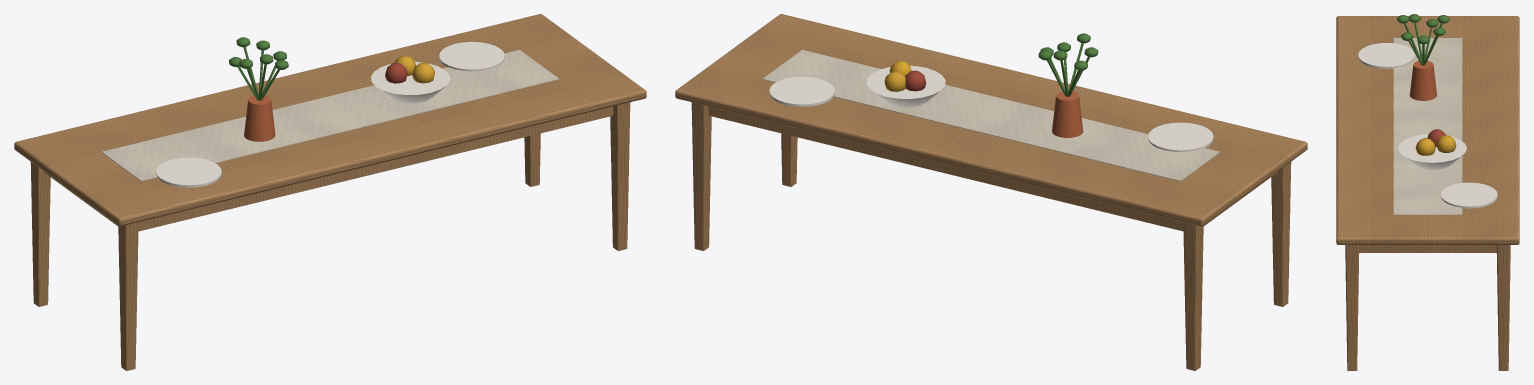
Rendered from dining_table.glb.
The picture shows the model from 3 angles, left to right: view 1: azimuth 30°, elevation 25°; view 2: azimuth 150°, elevation 25°; view 3: azimuth 270°, elevation 25°; orthographic projection. The views are drawn at different scales.
Visible parts, largest first — view 1: dining_table; view 2: dining_table; view 3: dining_table.
Part boxes in pixels (box(x1,y1,x2,y2)): dining_table: box(14, 14, 646, 370); dining_table: box(675, 14, 1307, 370); dining_table: box(1336, 14, 1519, 370).
Size of the model in its own units: 11.5 by 5.2 by 4.
7 materials, 3 textured.
